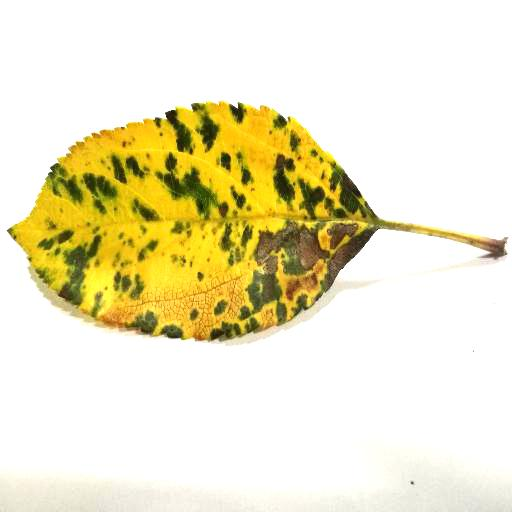Brown_Spot: (229, 218, 369, 356)
